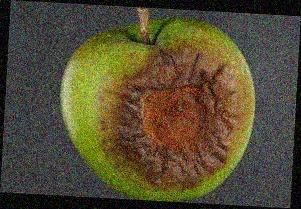rotten apple: (56, 13, 257, 201)
